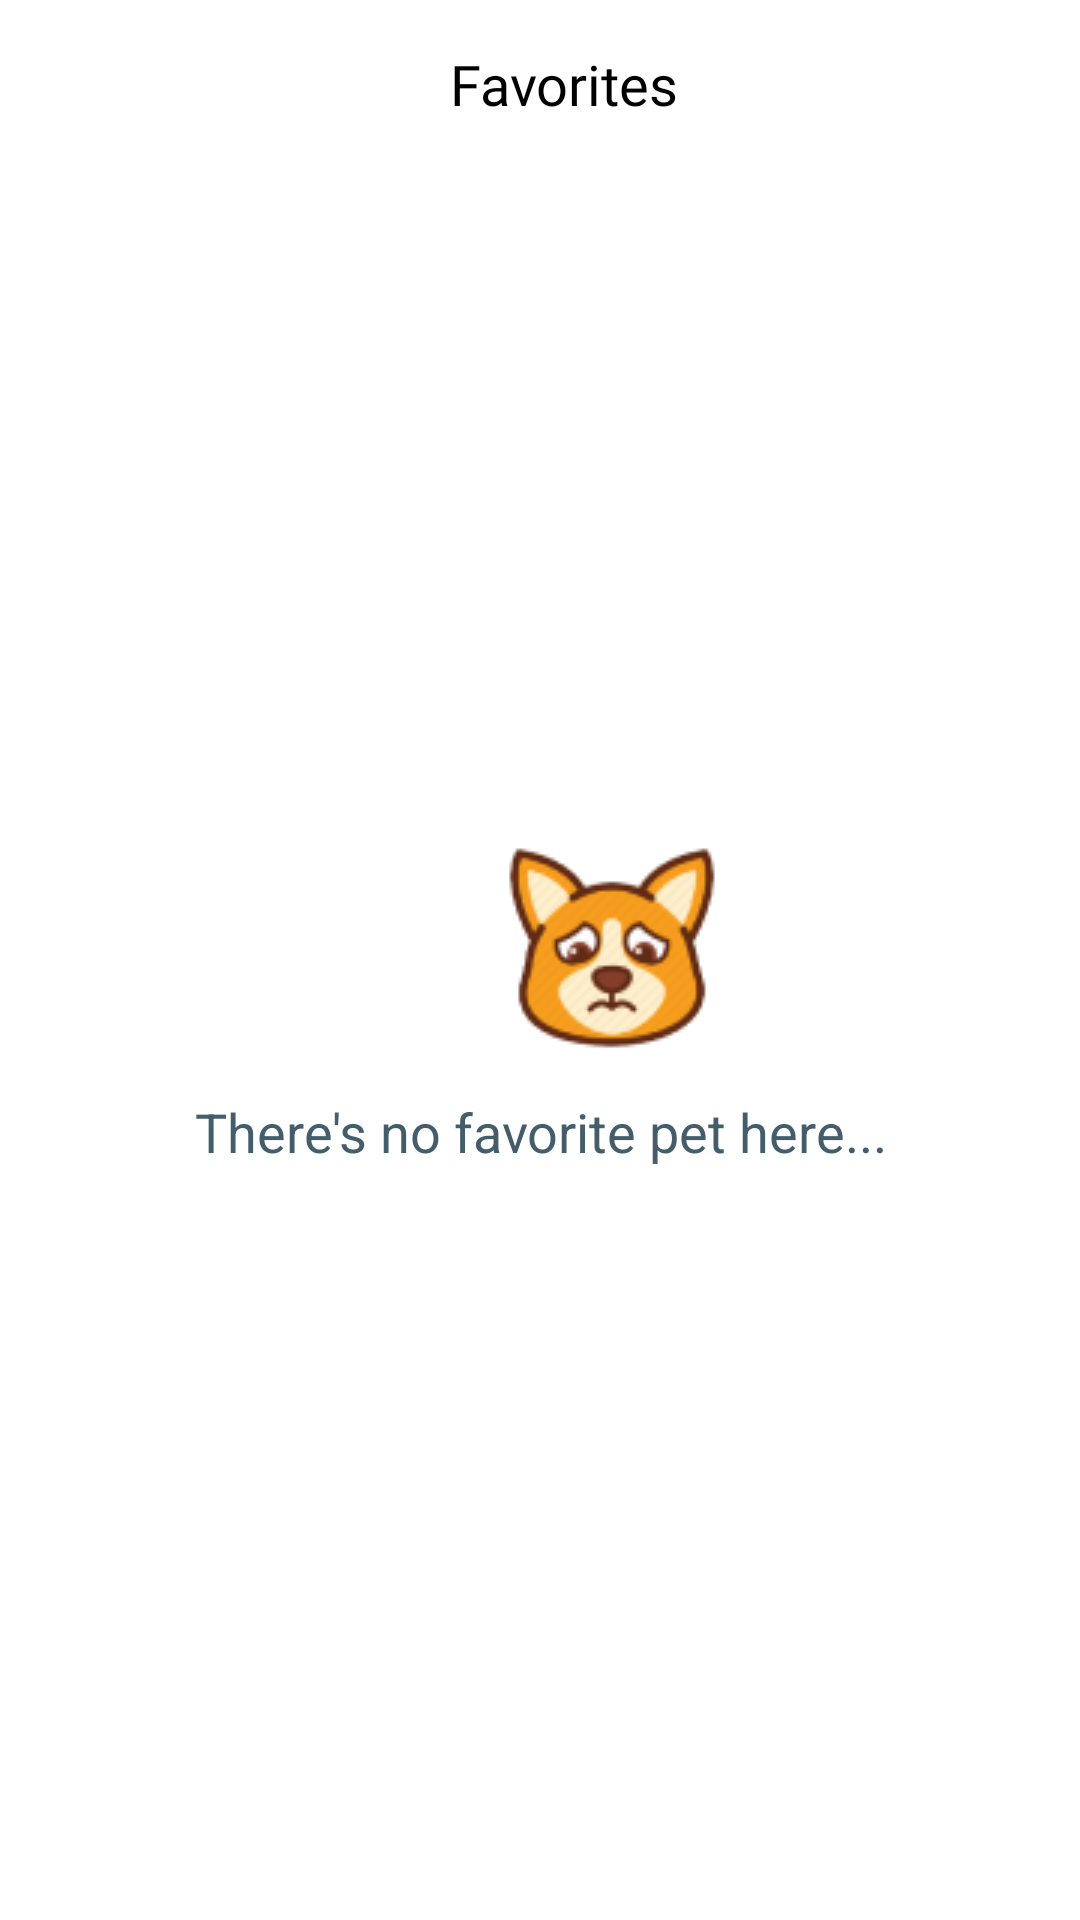

Where to tap for icons on this 1080px×1920px app screen, as point (x, y):
sad: point (612, 984)
